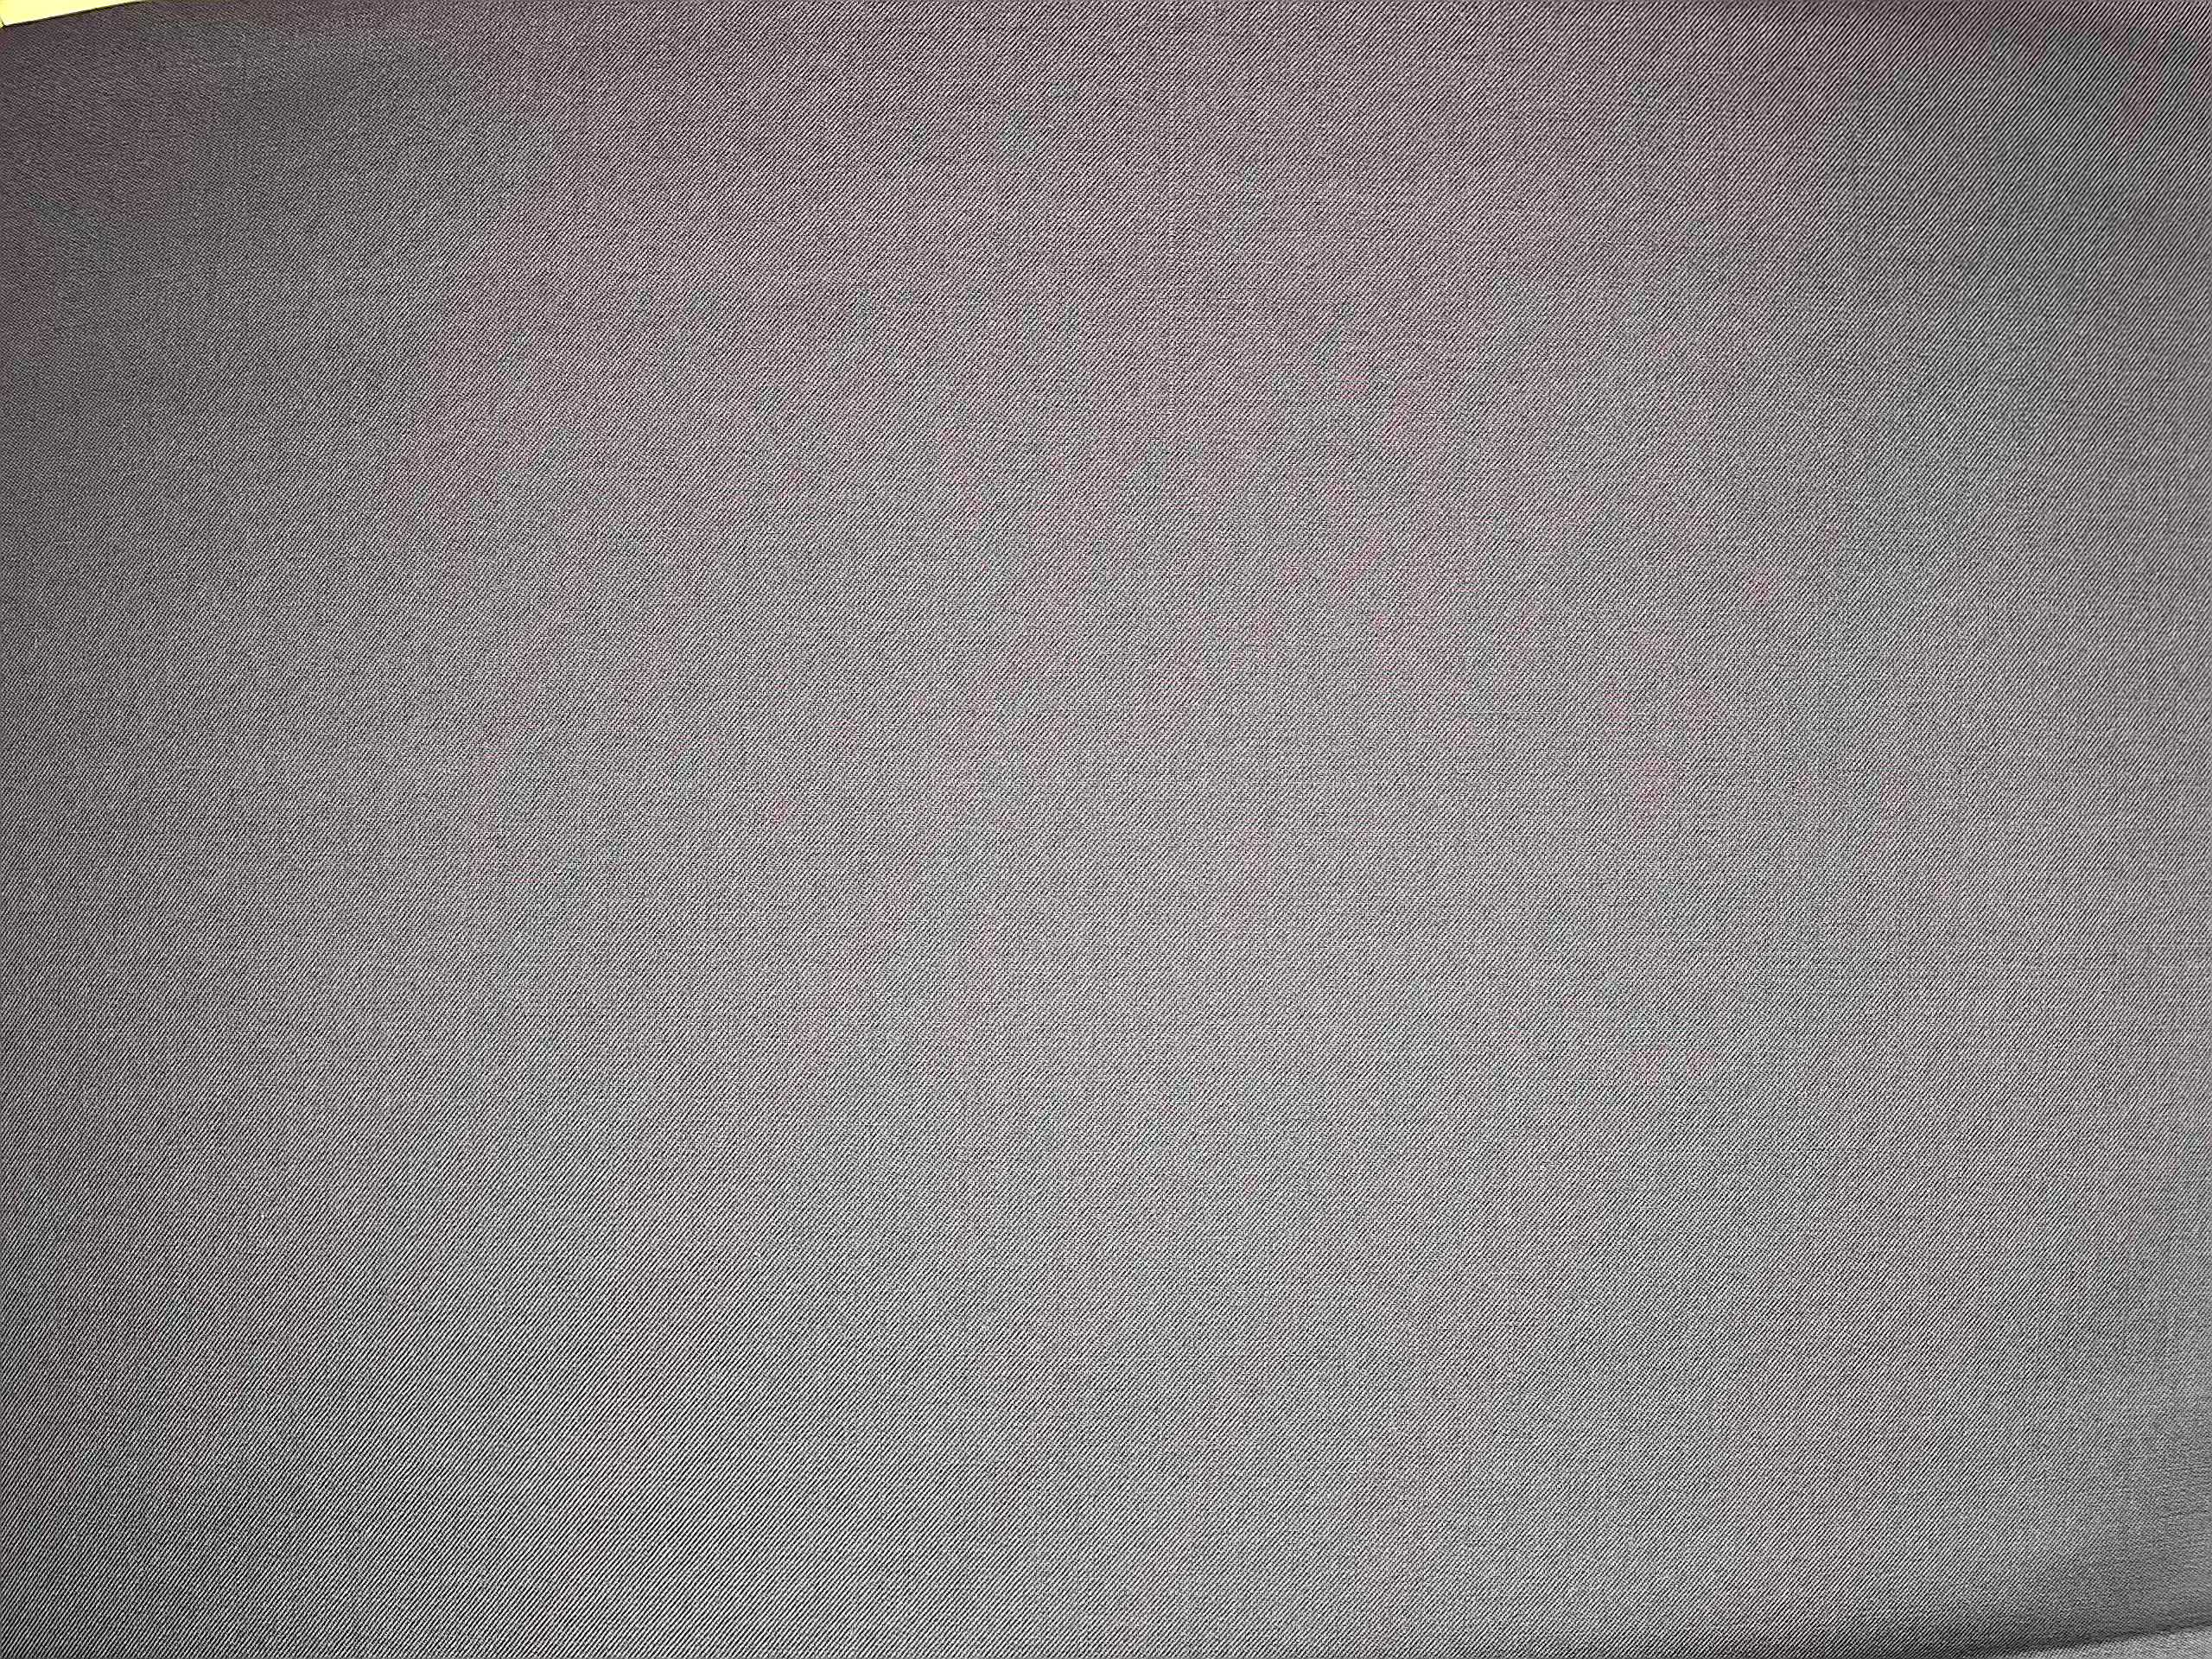others: (1157, 7, 1191, 476)
